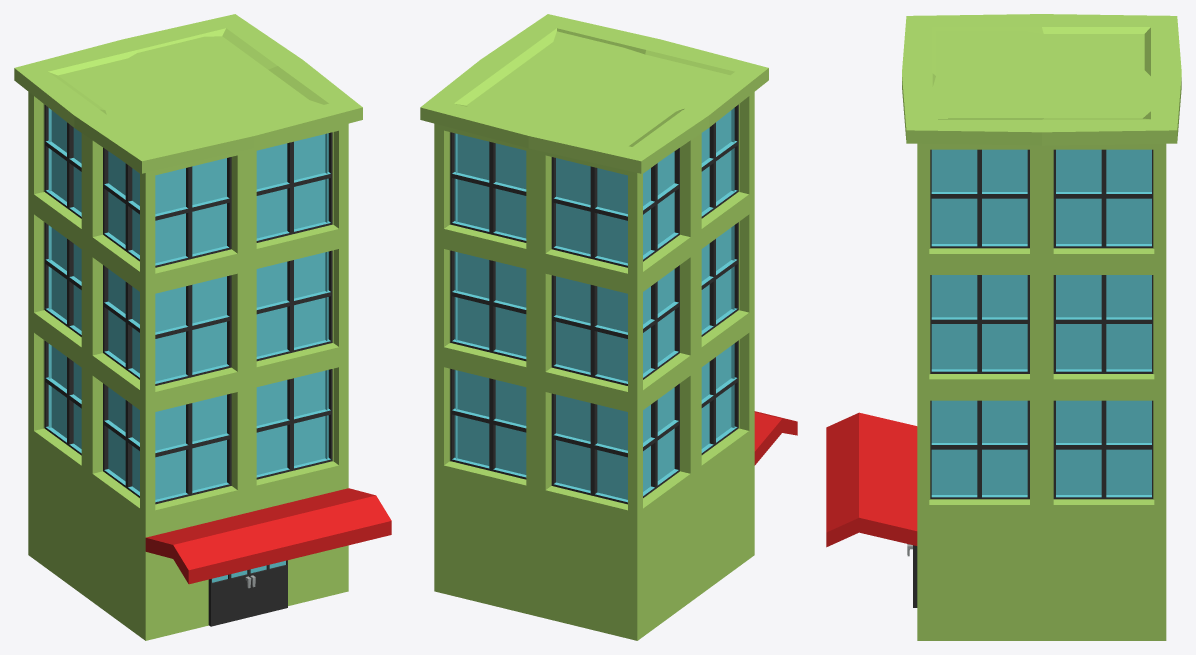
File: Building blend Green.fbx
The picture shows the model from 3 angles, left to right: view 1: azimuth 30°, elevation 25°; view 2: azimuth 150°, elevation 25°; view 3: azimuth 270°, elevation 25°; orthographic projection. The views are drawn at different scales.
Parts seen in each view (by area): view 1: Cube.002, Plane.001; view 2: Cube.002; view 3: Cube.002.
Boxes of the visible parts, left/top/right/bottom form: Cube.002: left=14, top=14, right=391, bottom=640; Plane.001: left=208, top=560, right=287, bottom=626; Cube.002: left=420, top=14, right=797, bottom=640; Cube.002: left=826, top=14, right=1181, bottom=640.
Bounding box in the file's own units: 1701 × 3454 × 2161.
